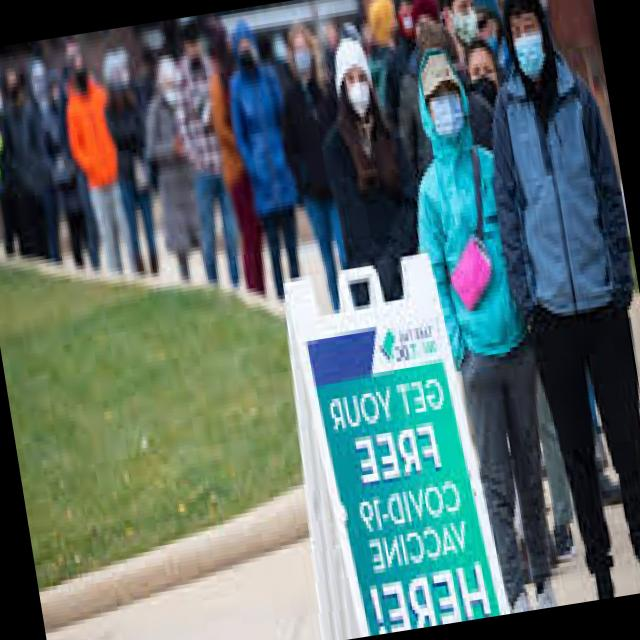Jacket: (475, 50, 640, 339), (402, 134, 543, 401), (316, 114, 446, 343), (128, 100, 215, 272), (222, 55, 304, 236), (275, 72, 344, 220), (57, 76, 126, 206)
